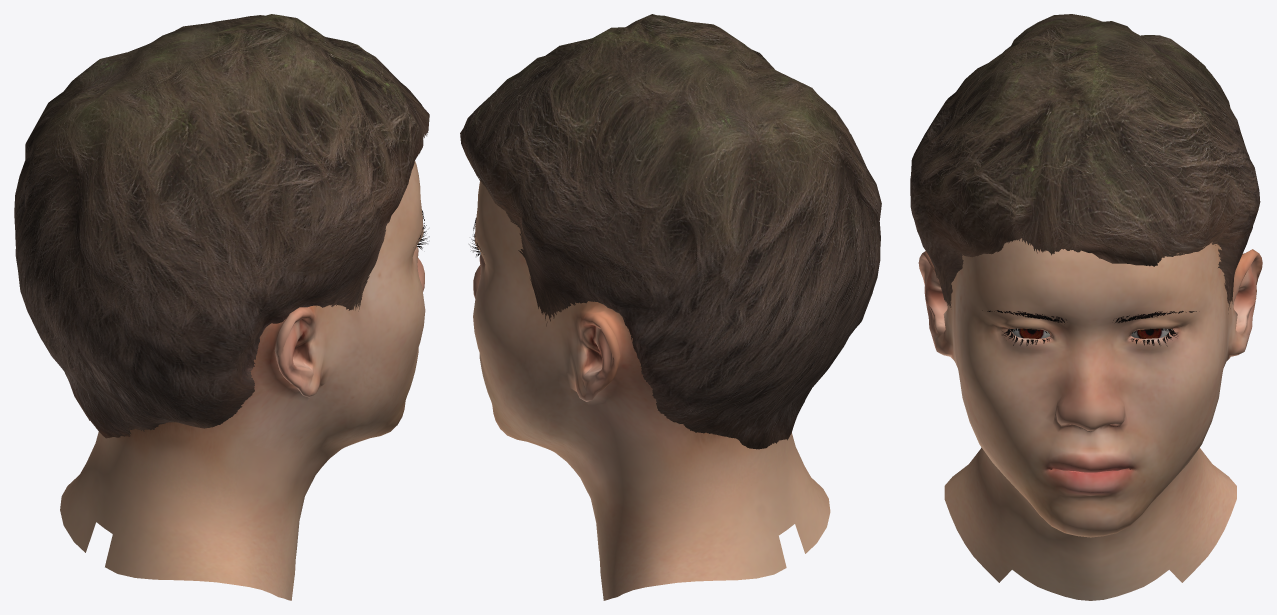
Rendered from SM_OfficeWorker_Head.fbx.
3 renders of one model, left to right at view 1: azimuth 30°, elevation 25°; view 2: azimuth 150°, elevation 25°; view 3: azimuth 270°, elevation 25°, orthographic. The views are drawn at different scales.
Parts seen in each view (by area): view 1: SM_OfficeWorker_Head; view 2: SM_OfficeWorker_Head; view 3: SM_OfficeWorker_Head.
Boxes of the visible parts, left/top/right/bottom form: SM_OfficeWorker_Head: left=14, top=14, right=429, bottom=600; SM_OfficeWorker_Head: left=460, top=14, right=881, bottom=600; SM_OfficeWorker_Head: left=910, top=14, right=1262, bottom=600.
Size of the model in its own units: 24.49 by 32.83 by 19.55.
